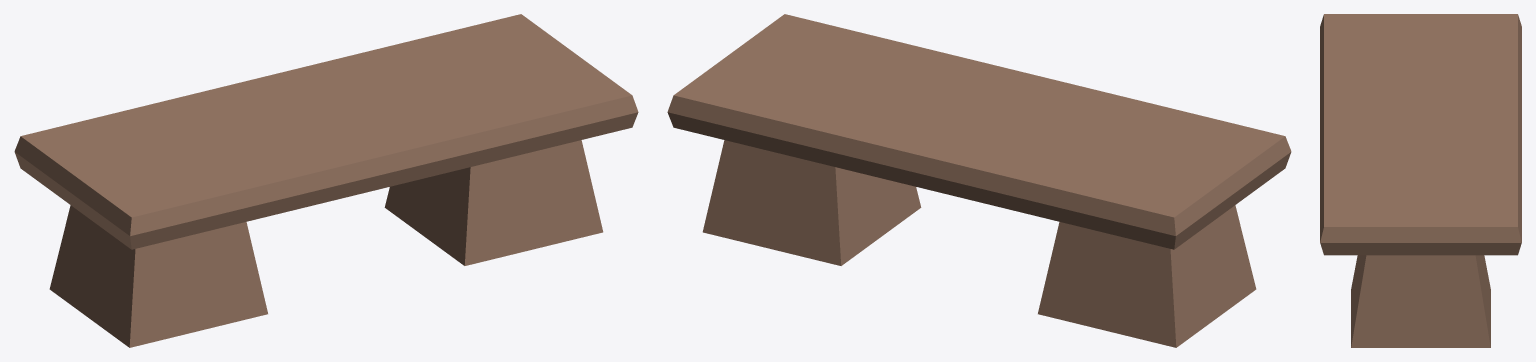
The picture shows the model from 3 angles, left to right: view 1: azimuth 30°, elevation 25°; view 2: azimuth 150°, elevation 25°; view 3: azimuth 270°, elevation 25°; orthographic projection. The views are drawn at different scales.
Visible parts, largest first — view 1: mesh1_mesh1-geometry, mesh2_mesh2-geometry; view 2: mesh1_mesh1-geometry, mesh2_mesh2-geometry; view 3: mesh1_mesh1-geometry, mesh2_mesh2-geometry.
Part boxes in pixels (x1=…): mesh1_mesh1-geometry: x1=14, y1=14, x2=638, y2=249; mesh2_mesh2-geometry: x1=49, y1=140, x2=603, y2=347; mesh1_mesh1-geometry: x1=667, y1=14, x2=1291, y2=249; mesh2_mesh2-geometry: x1=702, y1=140, x2=1256, y2=347; mesh1_mesh1-geometry: x1=1320, y1=14, x2=1521, y2=255; mesh2_mesh2-geometry: x1=1351, y1=255, x2=1490, y2=347.
Bounding box in the file's own units: 0.9018 × 0.246 × 0.3553.
